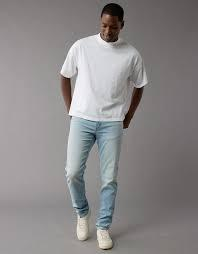jeans: (65, 115, 131, 233)
tshirt: (60, 33, 150, 123)
